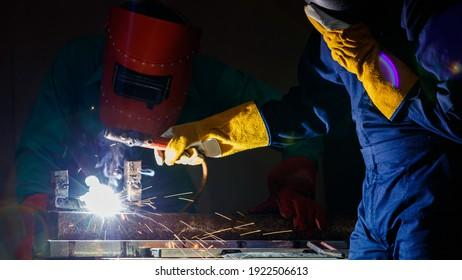gloves: (306, 4, 418, 127), (154, 102, 273, 166)
